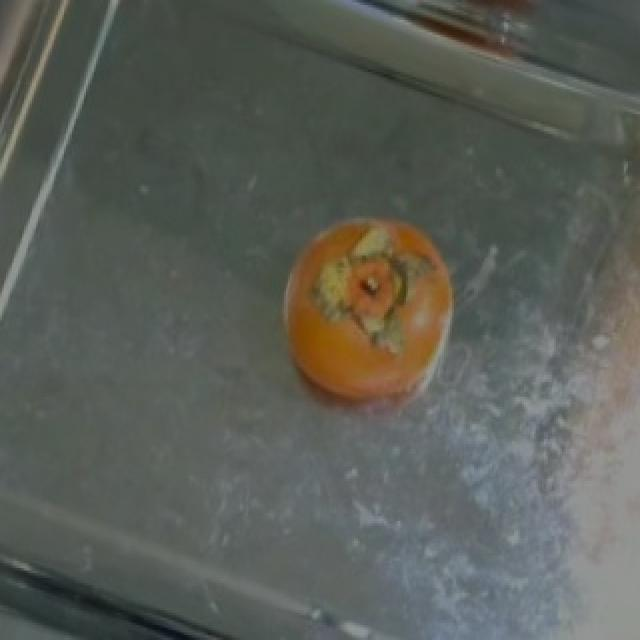Fruit: (260, 196, 474, 444)
